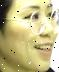without_mask: (1, 1, 59, 72)
